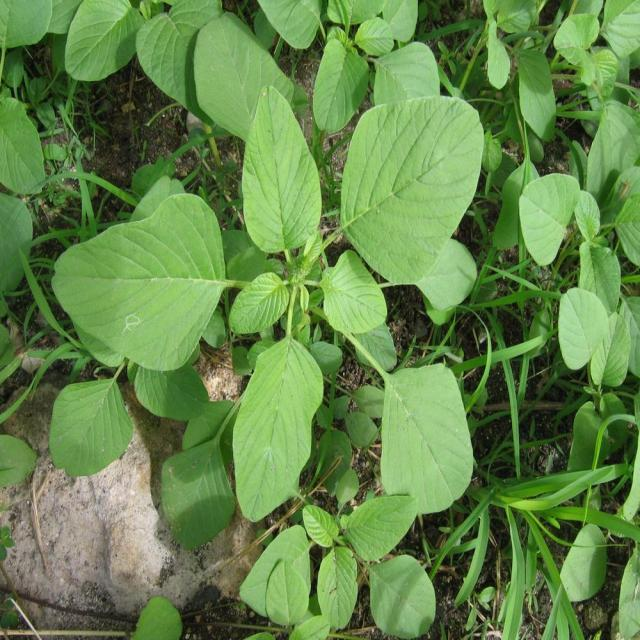Medicinal-Arive Dantu: (49, 80, 488, 518), (517, 110, 640, 368), (58, 4, 307, 123), (250, 521, 438, 640), (264, 2, 451, 108), (474, 3, 640, 101)
